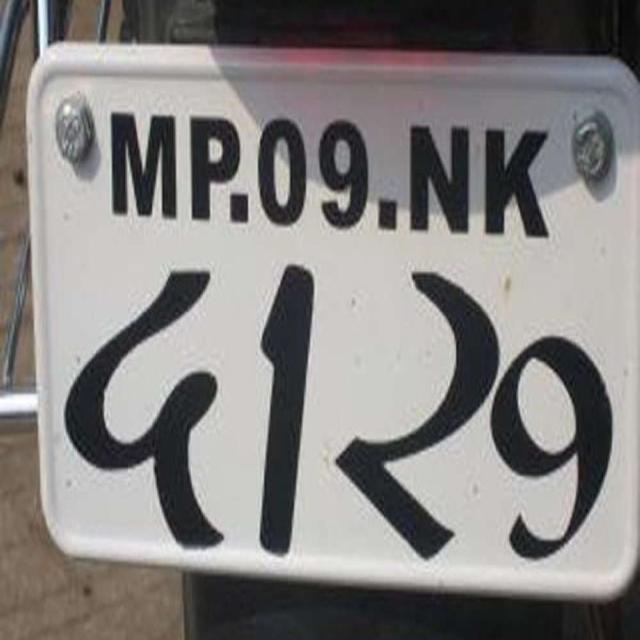number plate: (24, 36, 638, 606)
